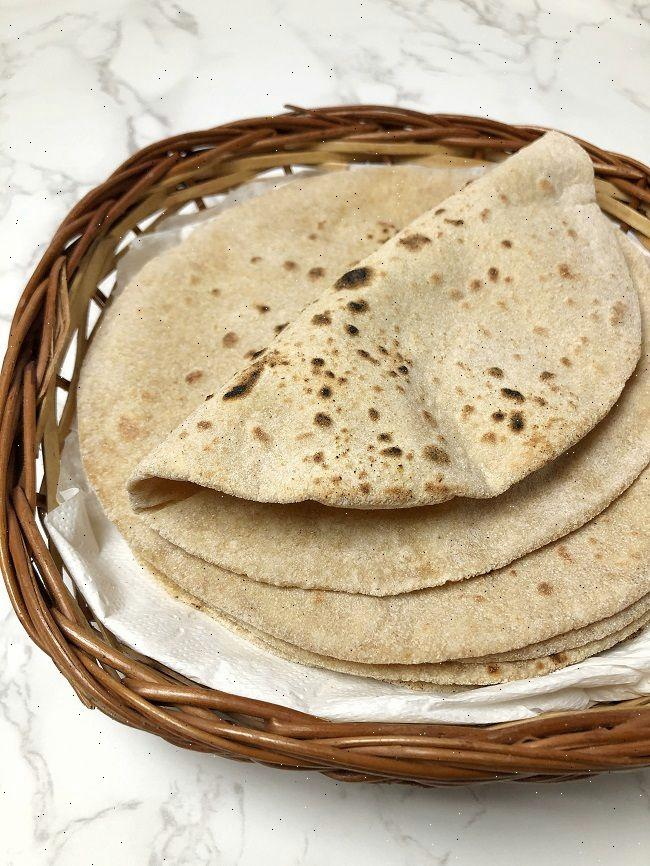roti phulka: (71, 180, 650, 691)
